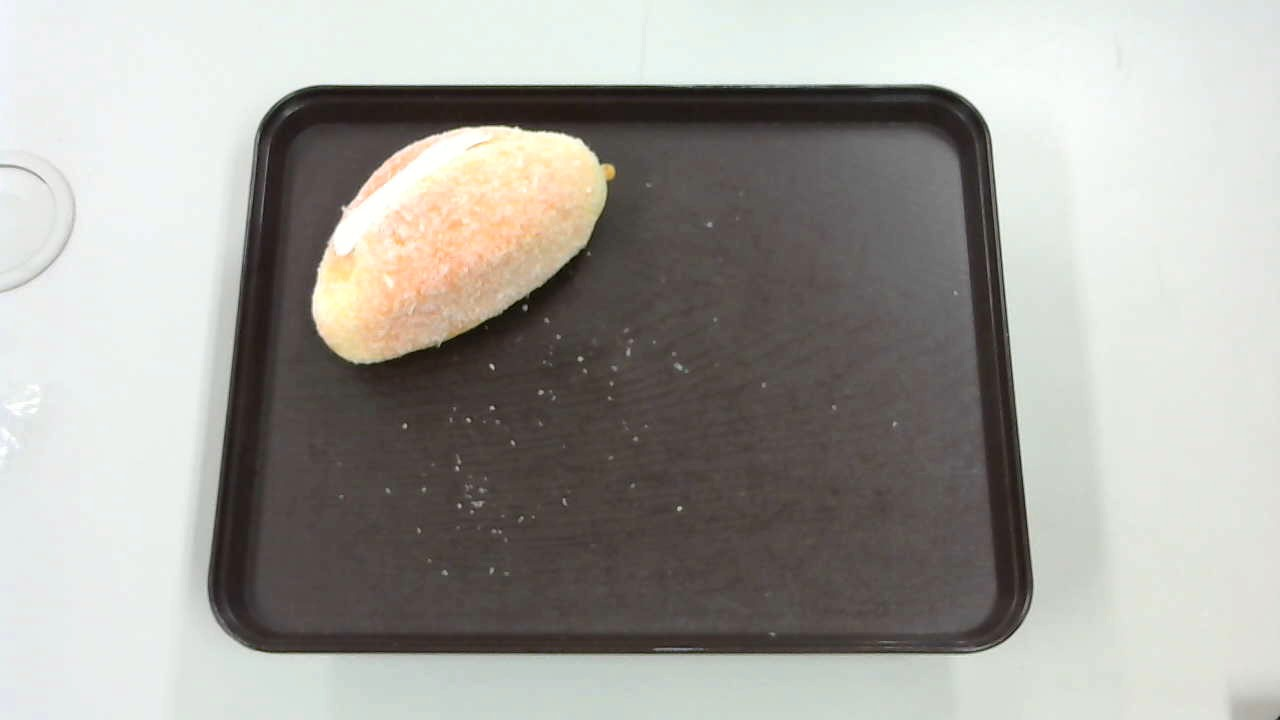coconut: (311, 126, 615, 366)
